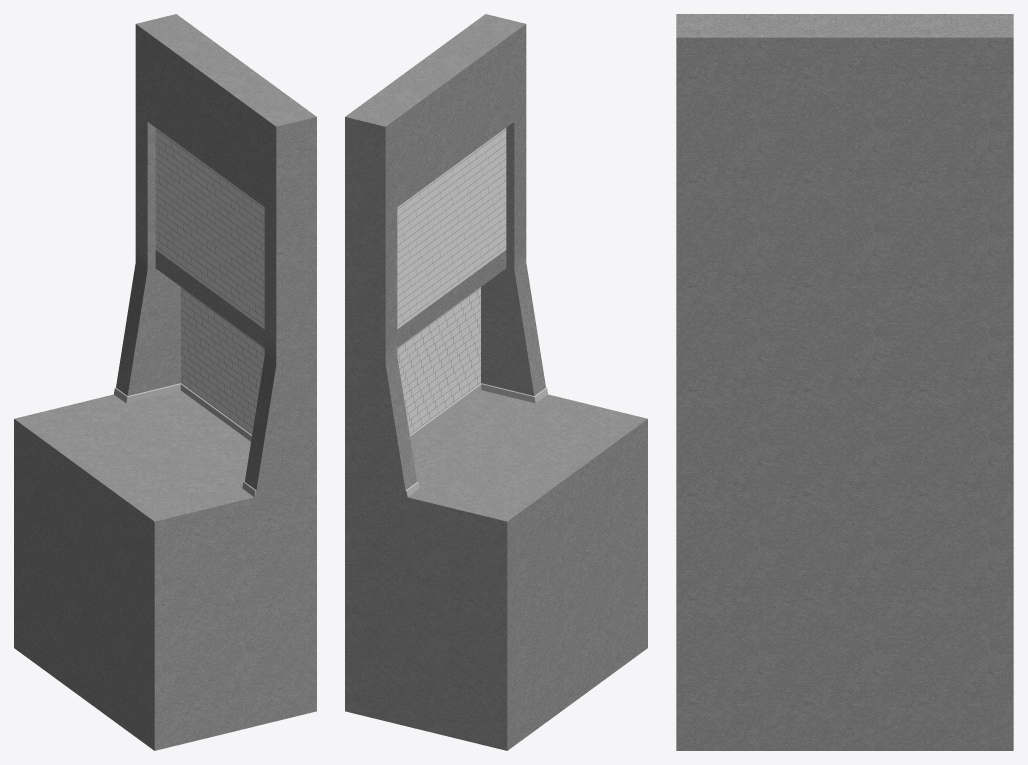
File: SM_Wall_a.fbx
3 renders of one model, left to right at view 1: azimuth 30°, elevation 25°; view 2: azimuth 150°, elevation 25°; view 3: azimuth 270°, elevation 25°, orthographic. The views are drawn at different scales.
Visible parts, largest first — view 1: SM_Wall_a_LOD0; view 2: SM_Wall_a_LOD0; view 3: SM_Wall_a_LOD0.
Part boxes in pixels (<box>): SM_Wall_a_LOD0: <box>14,14,316,750</box>; SM_Wall_a_LOD0: <box>345,14,647,750</box>; SM_Wall_a_LOD0: <box>676,14,1013,750</box>.
Bounding box in the file's own units: 400 × 600 × 1400.
Materials: 4 (3 with a texture image).
